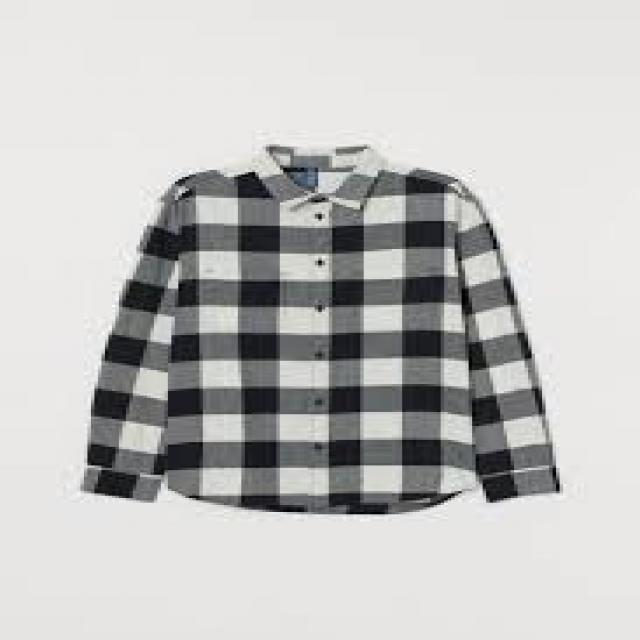plaid: (84, 135, 565, 521)
